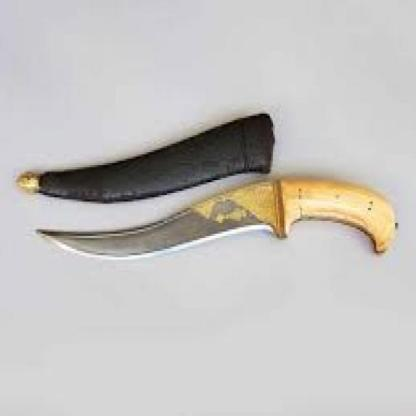Knife: (12, 131, 408, 306)
